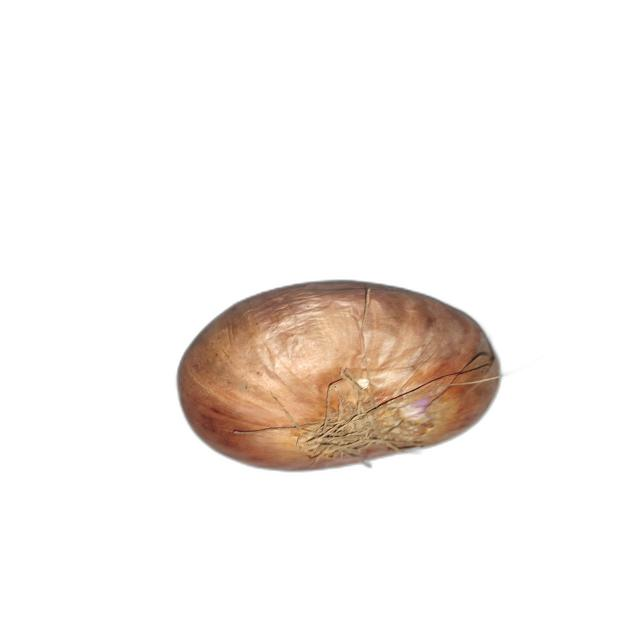onion: (175, 280, 503, 473)
